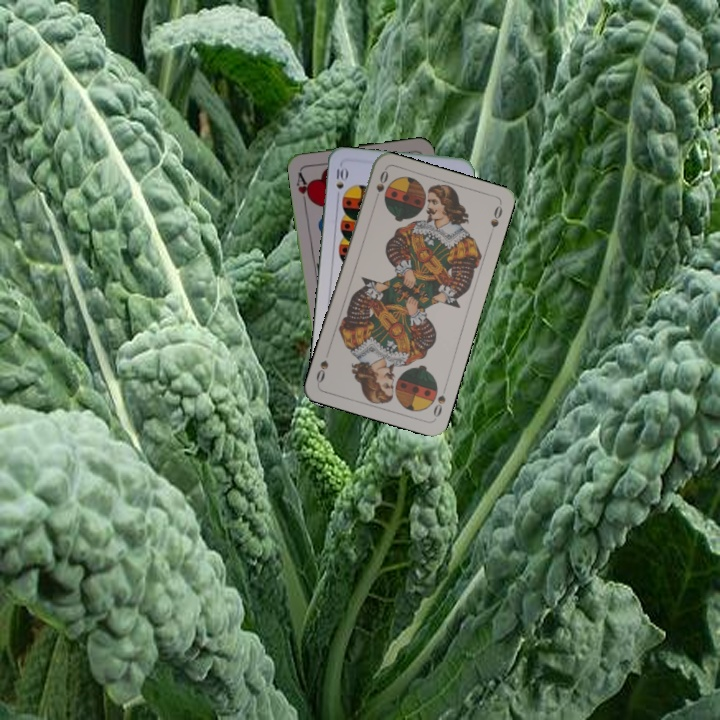HA: (292, 167, 314, 207)
S10: (332, 161, 349, 202)
SO: (371, 166, 391, 206), (429, 382, 449, 420)
